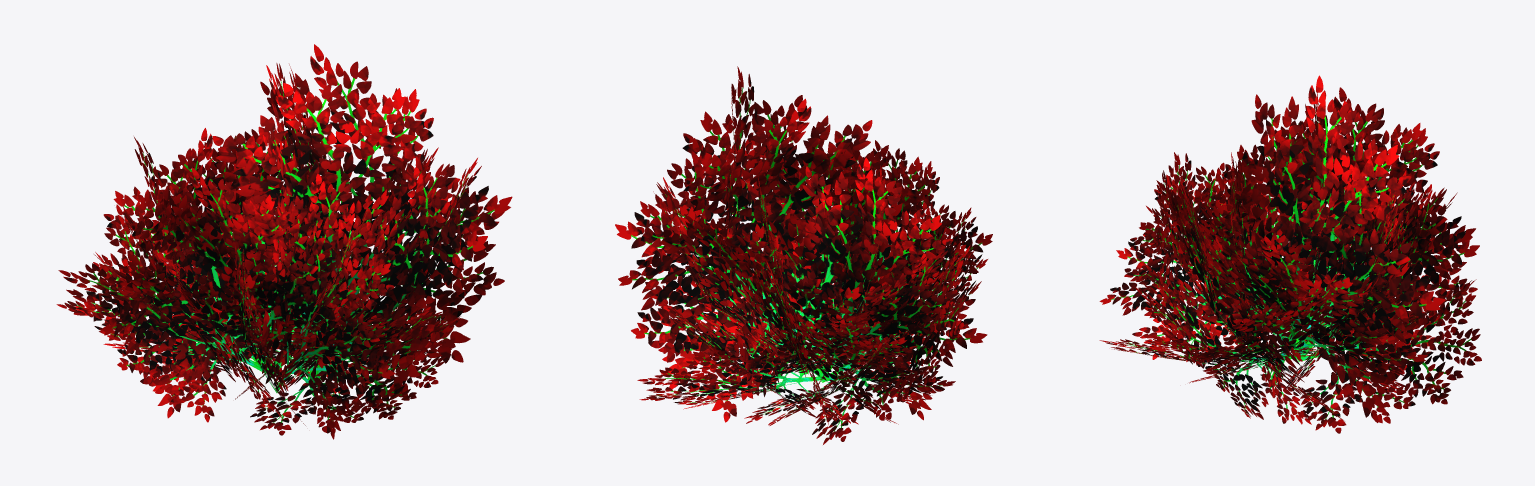
Rendered from Bush_A_01.fbx.
3 views of the same model, side by side, from view 1: azimuth 30°, elevation 25°; view 2: azimuth 150°, elevation 25°; view 3: azimuth 270°, elevation 25° (orthographic). The views are drawn at different scales.
Visible parts, largest first — view 1: Bush_A_01_LOD0; view 2: Bush_A_01_LOD0; view 3: Bush_A_01_LOD0.
Part boxes in pixels (left/top/right/bottom): Bush_A_01_LOD0: left=56, top=44, right=512, bottom=439; Bush_A_01_LOD0: left=615, top=66, right=992, bottom=444; Bush_A_01_LOD0: left=1099, top=75, right=1481, bottom=433.
Size of what is drawn, in the model's own units: 2.98 by 2.35 by 2.64.
1 material, 1 textured.
